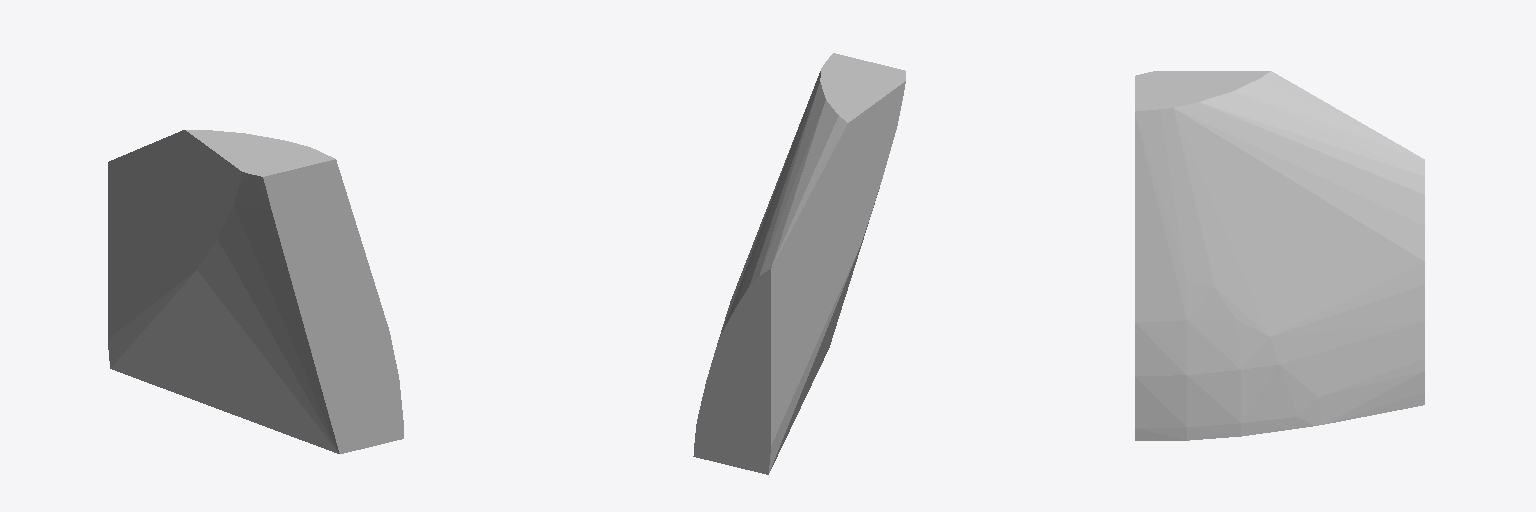
File: phantom-elastrat_collision_524.obj
3 renders of one model, left to right at view 1: azimuth 30°, elevation 25°; view 2: azimuth 150°, elevation 25°; view 3: azimuth 270°, elevation 25°, orthographic.
Bounding box in the file's own units: 0.0037 × 0.007 × 0.0062.